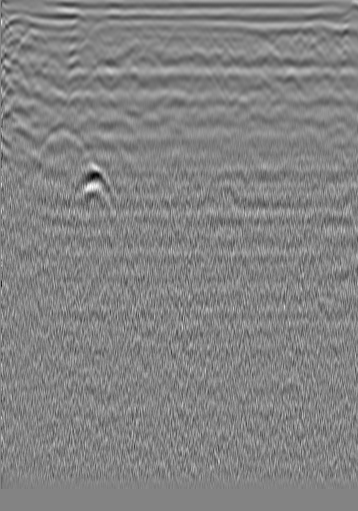가스: (69, 165, 114, 203)
상수: (303, 22, 323, 42)
오수: (23, 21, 43, 41)
우수: (168, 24, 188, 44)
